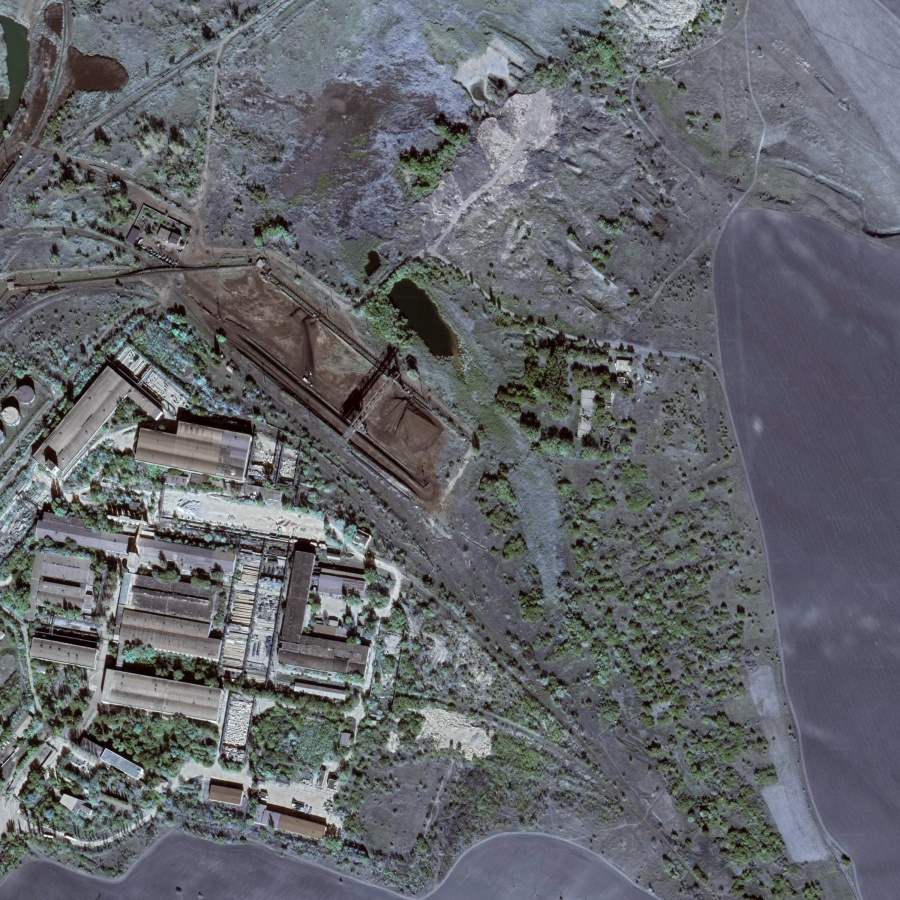PowerPlant: (159, 248, 449, 501)
